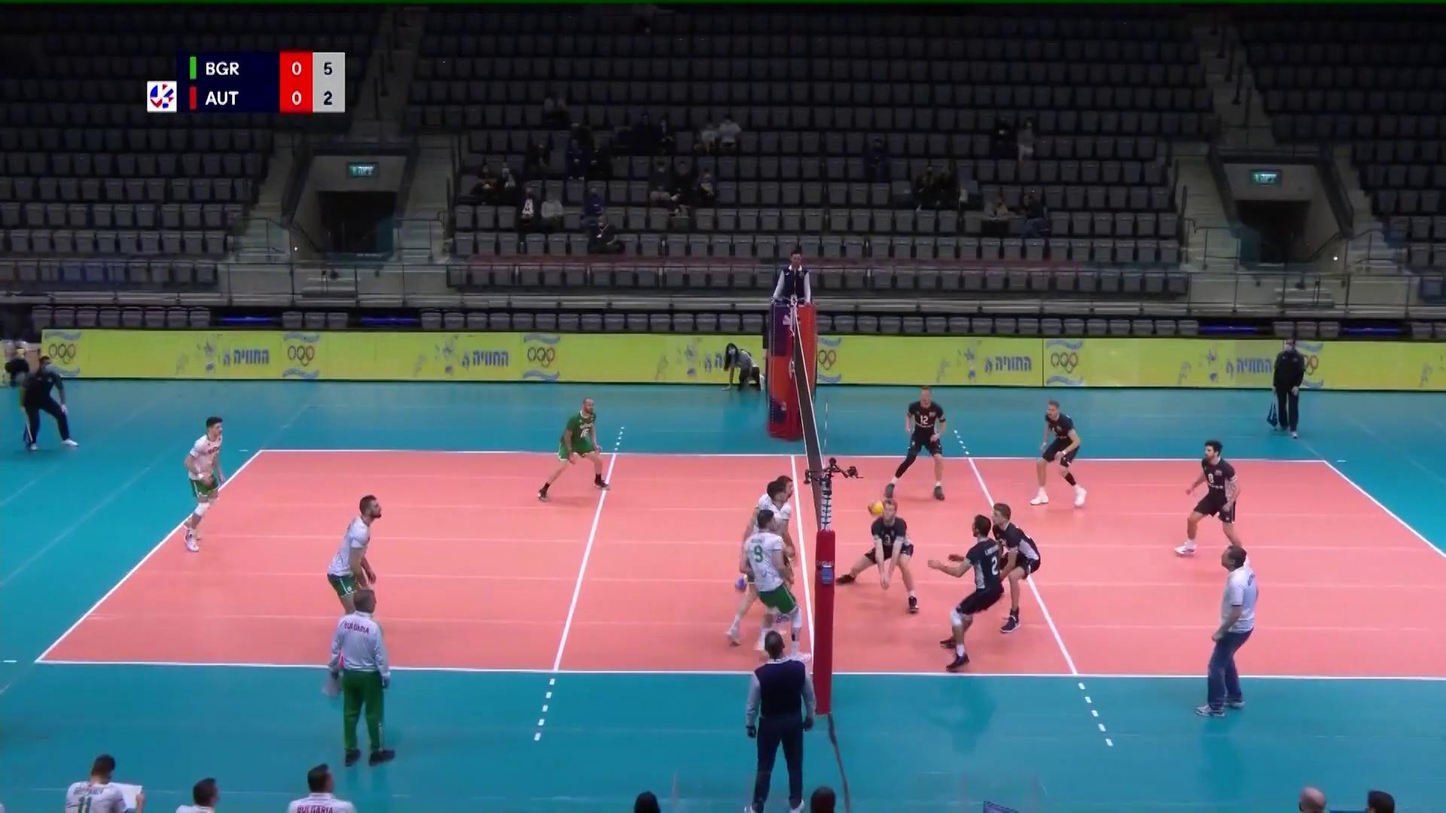ball: (868, 498, 883, 516)
